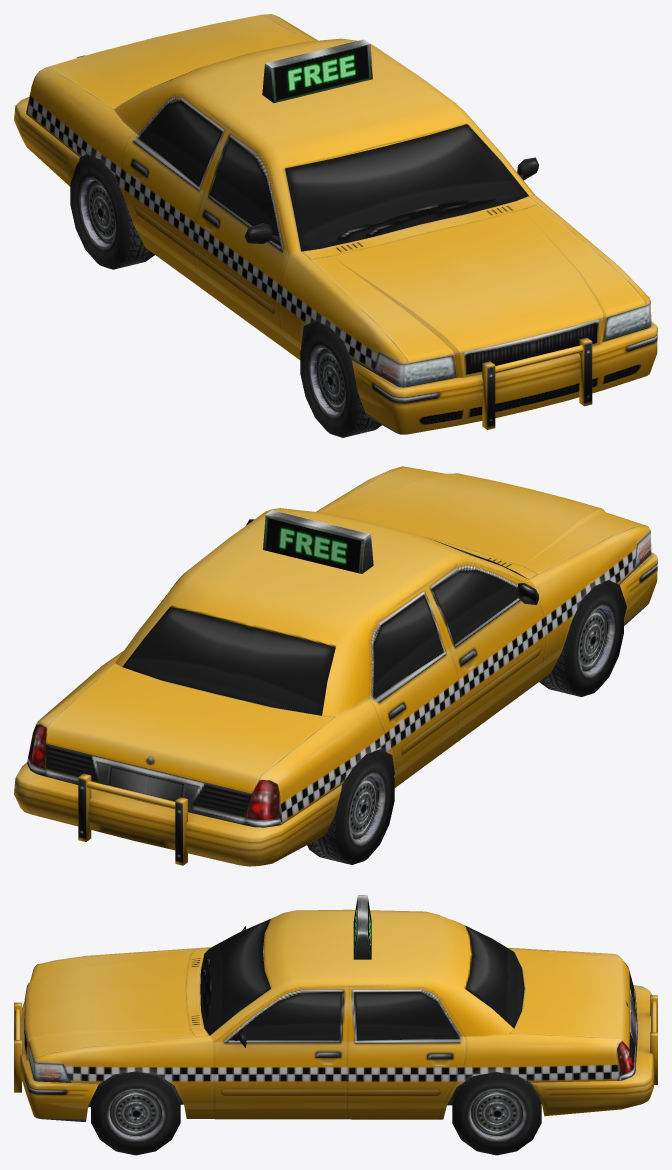
Rendered from ny_taxi.fbx.
The picture shows the model from 3 angles, top to bottom: view 1: azimuth 30°, elevation 25°; view 2: azimuth 150°, elevation 25°; view 3: azimuth 270°, elevation 25°; orthographic projection. The views are drawn at different scales.
Parts seen in each view (by area): view 1: ny_taxi; view 2: ny_taxi; view 3: ny_taxi.
Part boxes in pixels (x1,y1,x2,y2): ny_taxi: (14,14,657,437); ny_taxi: (14,466,657,866); ny_taxi: (14,895,657,1155).
Bounding box in the file's own units: 206 × 162 × 496.
